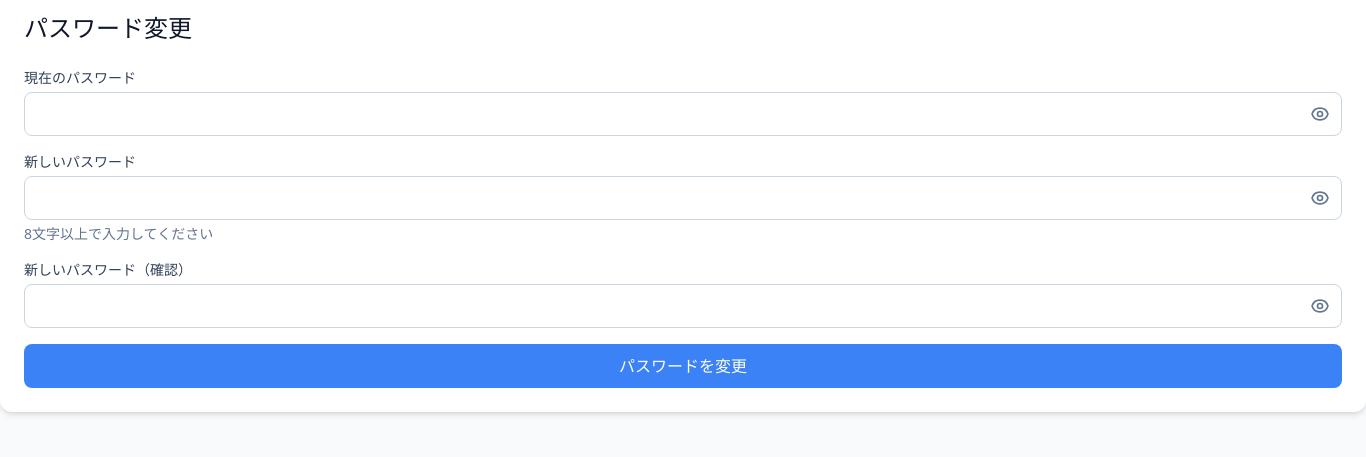
Test: PasswordChangeForm › Validation › should show error when new passwords do not match
Type "oldpass123" into the password field labelled "現在のパスワード" at {"x": 683, "y": 114}, box [24,92,1342,136]
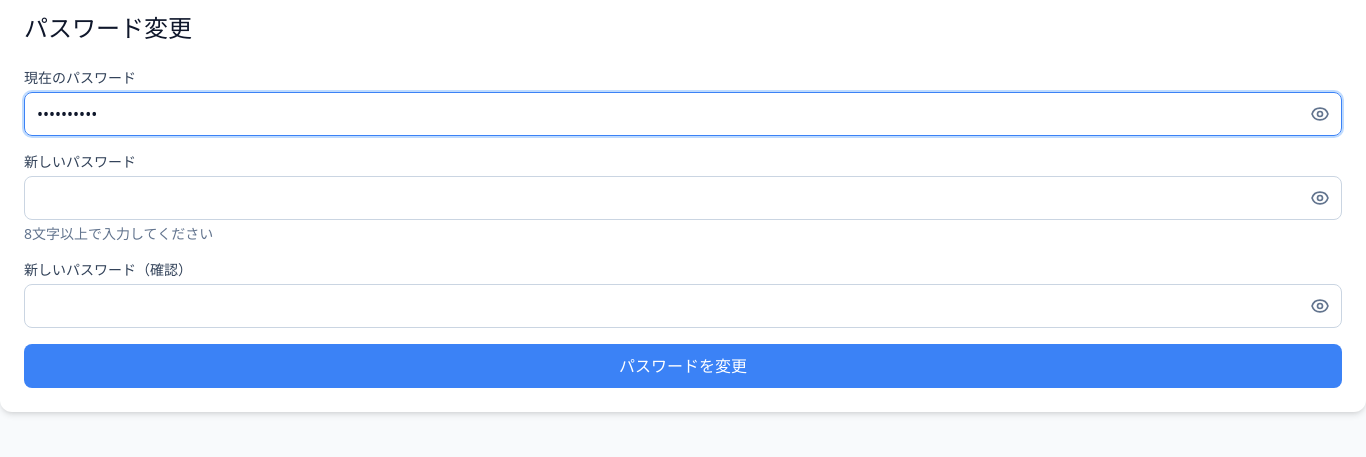
Type "newpassword123" into the password field labelled "新しいパスワード" at {"x": 683, "y": 198}, box [24,176,1342,220]
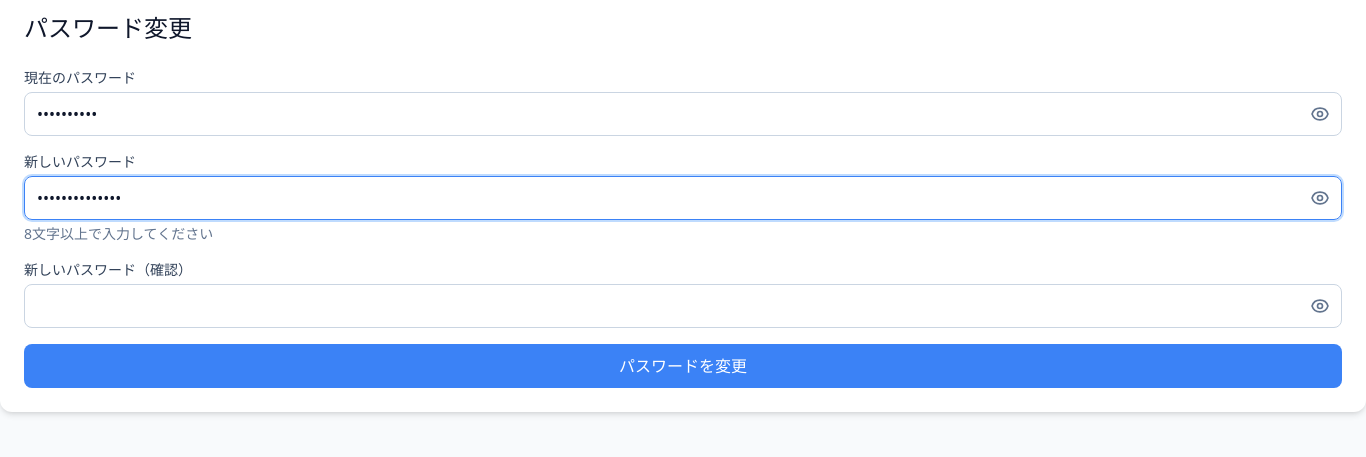
Type "differentpass123" into the password field labelled "新しいパスワード（確認）" at {"x": 683, "y": 306}, box [24,284,1342,328]
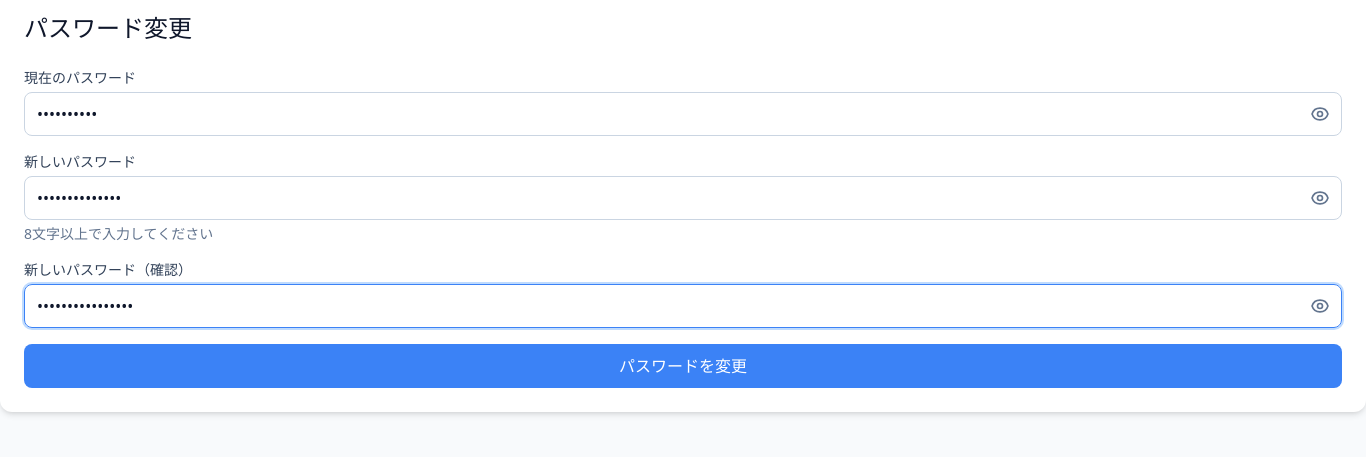
Click the button "パスワードを変更" at {"x": 683, "y": 366}, box [24,344,1342,388]
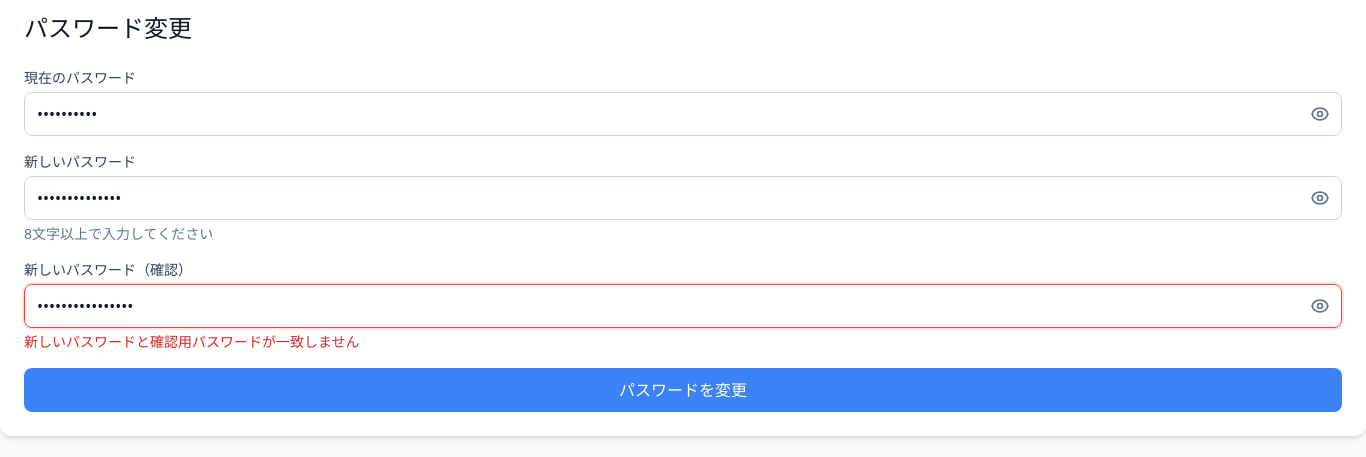
Expected: the text "新しいパスワードと確認用パスワードが一致しません" is shown, [24,332,360,351]
